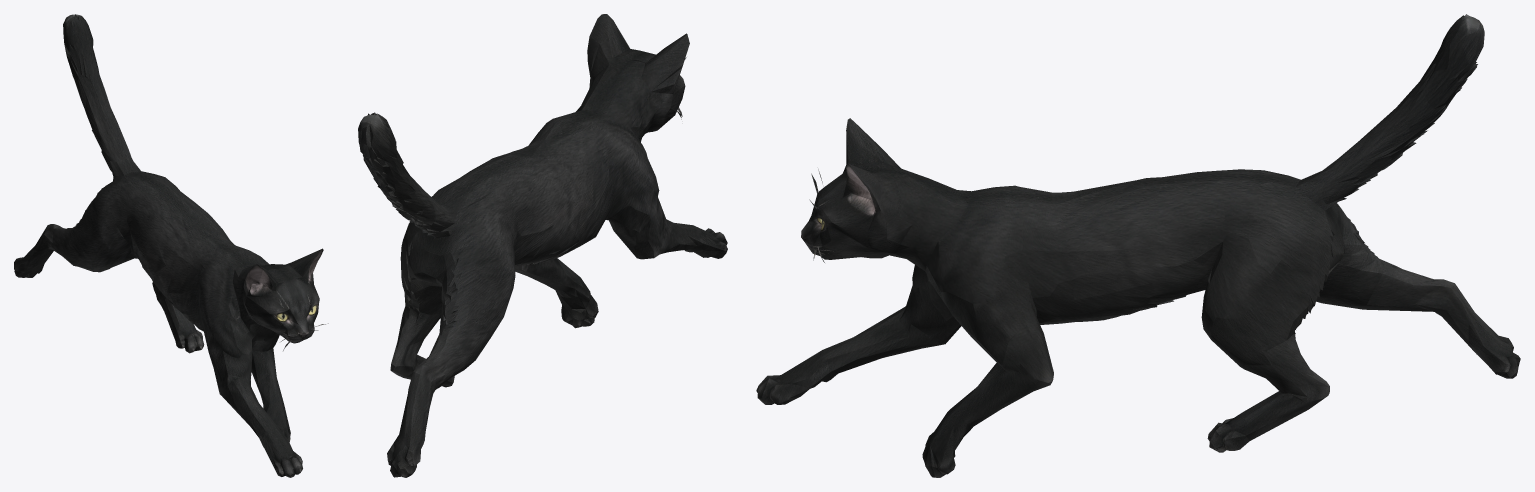
Rendered from cat.glb.
3 renders of one model, left to right at view 1: azimuth 30°, elevation 25°; view 2: azimuth 150°, elevation 25°; view 3: azimuth 270°, elevation 25°, orthographic. The views are drawn at different scales.
Bounding box in the file's own units: 0.3871 × 1.23 × 1.91.
1 material, 1 textured.
